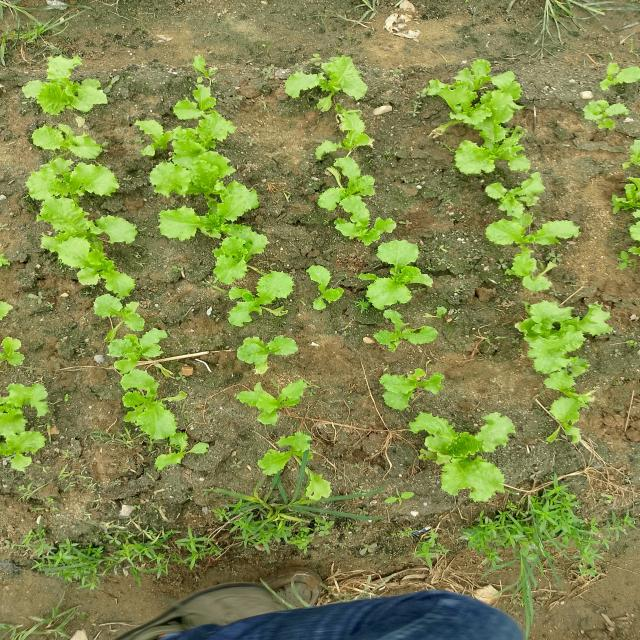Lettuce: (477, 208, 585, 276), (423, 62, 525, 124), (516, 294, 602, 364), (22, 51, 111, 116), (364, 234, 436, 309), (288, 51, 375, 110), (26, 160, 128, 207), (180, 159, 262, 215), (54, 238, 136, 292), (101, 333, 185, 385), (461, 117, 533, 176), (225, 268, 300, 321), (443, 408, 520, 458), (237, 378, 312, 428), (30, 122, 111, 168), (314, 157, 381, 212), (378, 366, 453, 412), (35, 203, 129, 239), (538, 396, 598, 452), (256, 429, 320, 481), (120, 387, 189, 435), (372, 312, 443, 358), (212, 227, 274, 279), (147, 120, 204, 176), (236, 331, 304, 376), (95, 289, 159, 333), (2, 378, 55, 428), (482, 178, 551, 214), (0, 424, 45, 476), (179, 82, 232, 126), (302, 264, 346, 312), (578, 97, 632, 134), (159, 430, 206, 468), (598, 59, 640, 93), (612, 179, 640, 220)
